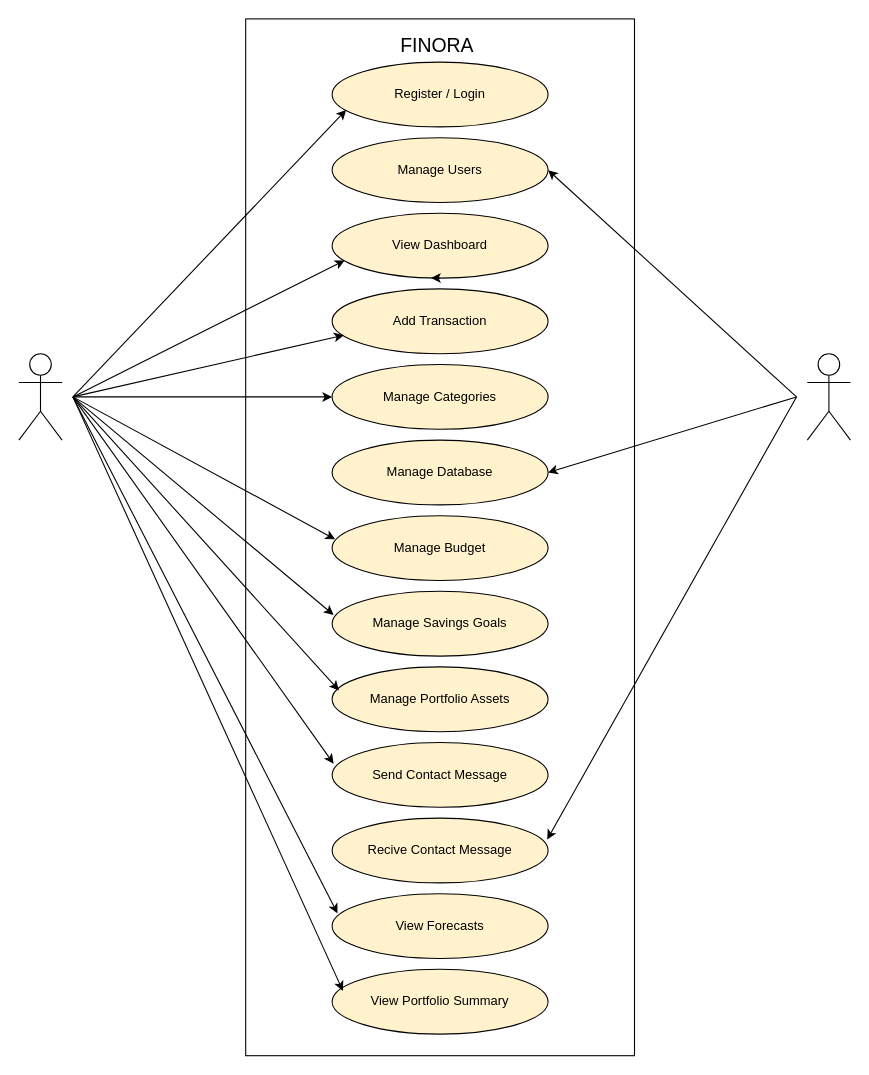
This 869x1075 diagram has some shape labels left out. The centre of each missing label's shape, as x and y in pixels:
Admin: the point at 828,396
User: the point at 40,396
